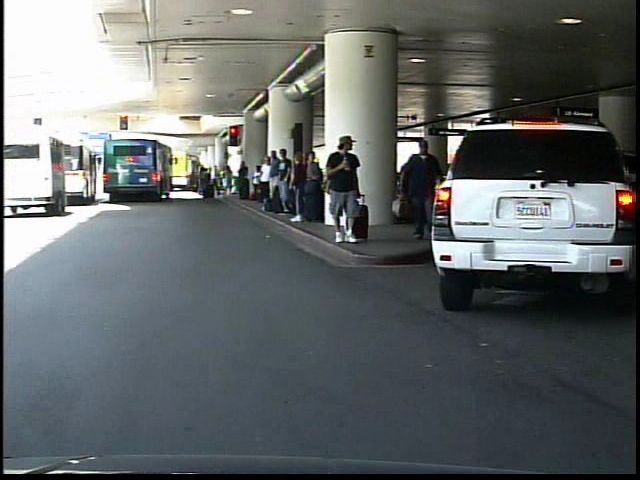person: (398, 132, 445, 248), (325, 131, 368, 246)
